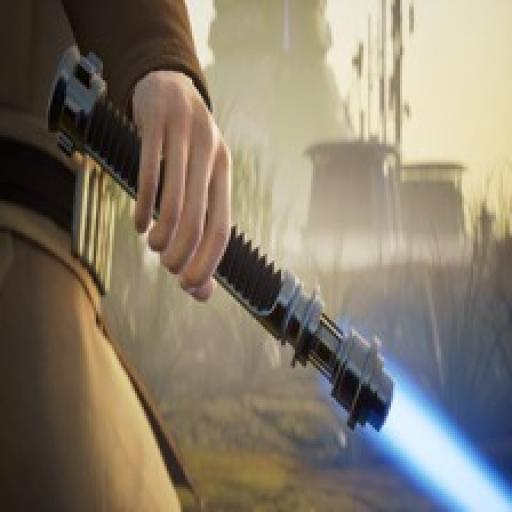lightsaber: (34, 45, 511, 512)
